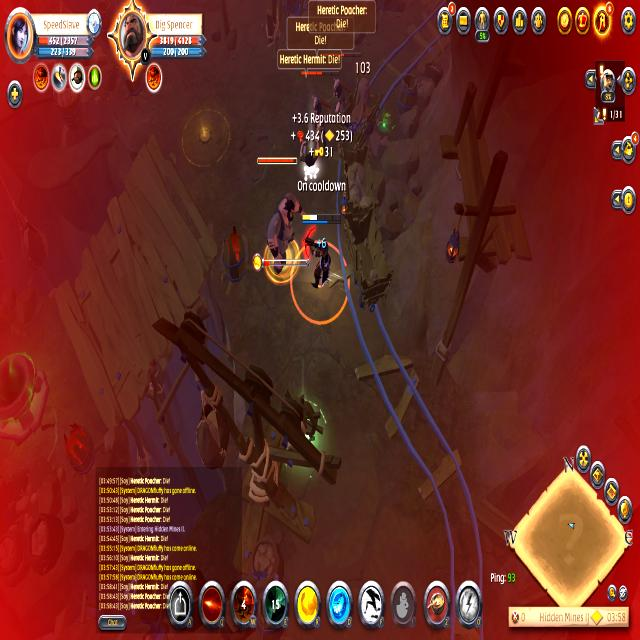ore: (256, 150, 304, 286), (299, 70, 342, 153), (320, 50, 365, 120)
red: (300, 212, 340, 292)
silver: (285, 230, 352, 323)
stone: (302, 158, 320, 186)
